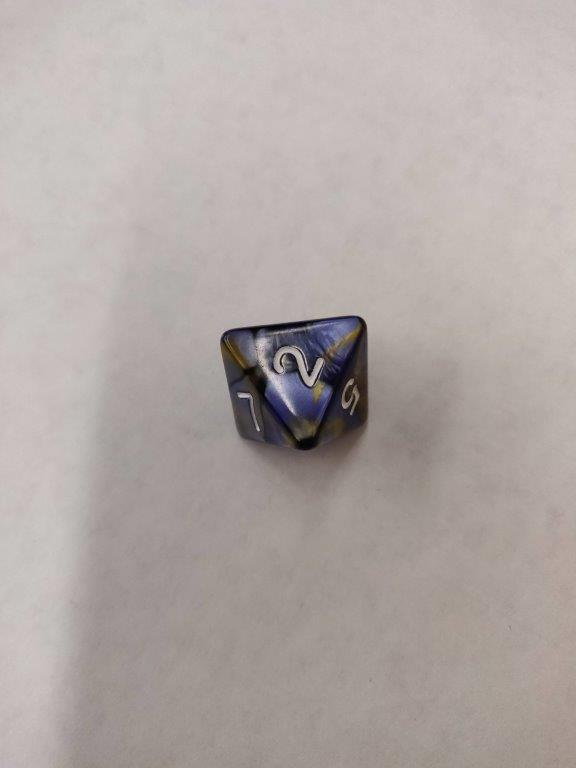d8-2: (219, 313, 371, 452)
